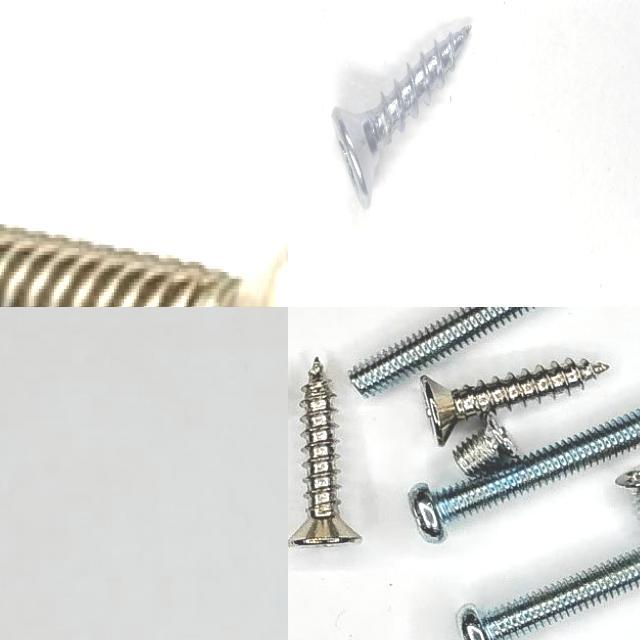Screw: (409, 408, 640, 543), (331, 24, 471, 208), (457, 549, 640, 640), (420, 358, 609, 446), (348, 307, 533, 395), (288, 358, 361, 546), (453, 412, 514, 477)
